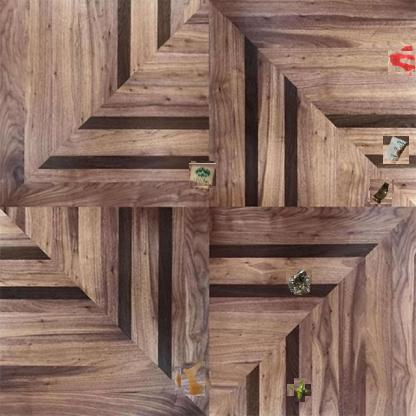dirty: (286, 267, 312, 297), (383, 136, 409, 164), (190, 162, 215, 188), (370, 179, 394, 203), (290, 381, 308, 399)
liquid: (178, 363, 208, 393), (391, 47, 416, 75)
